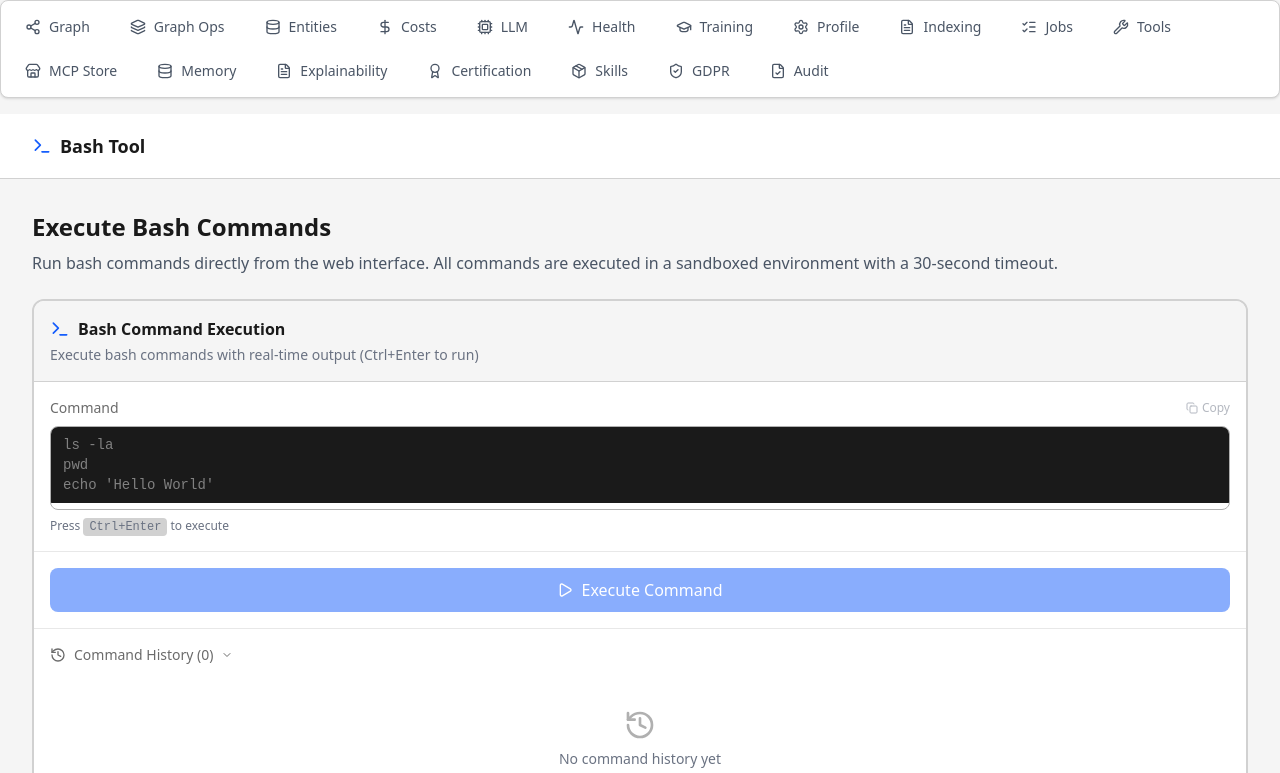
Test case: BashToolPage › should handle errors gracefully
Type "test" into the text box with test id "bash-command-input".
click(640, 465); type("test")  # box x1=51 y1=427 x2=1229 y2=503
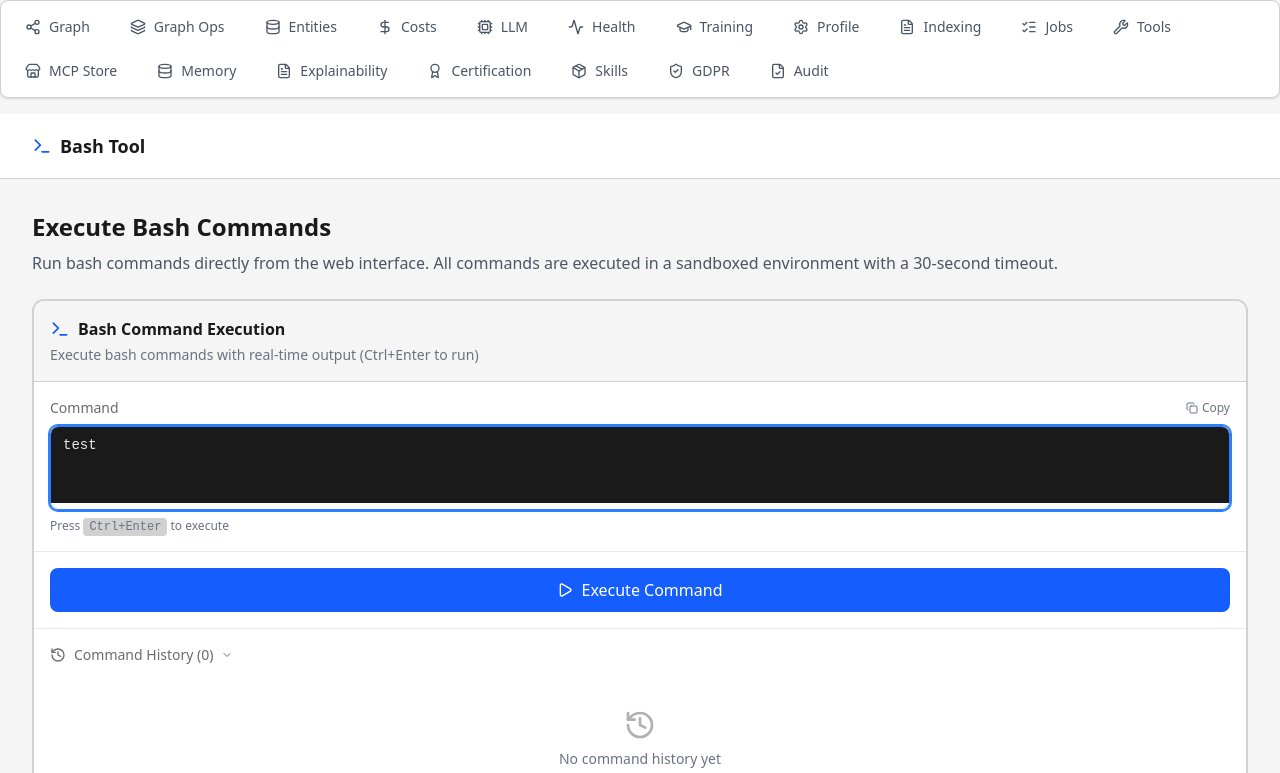
Click the button with test id "execute-bash-button".
click(640, 590)  # box x1=50 y1=568 x2=1230 y2=612
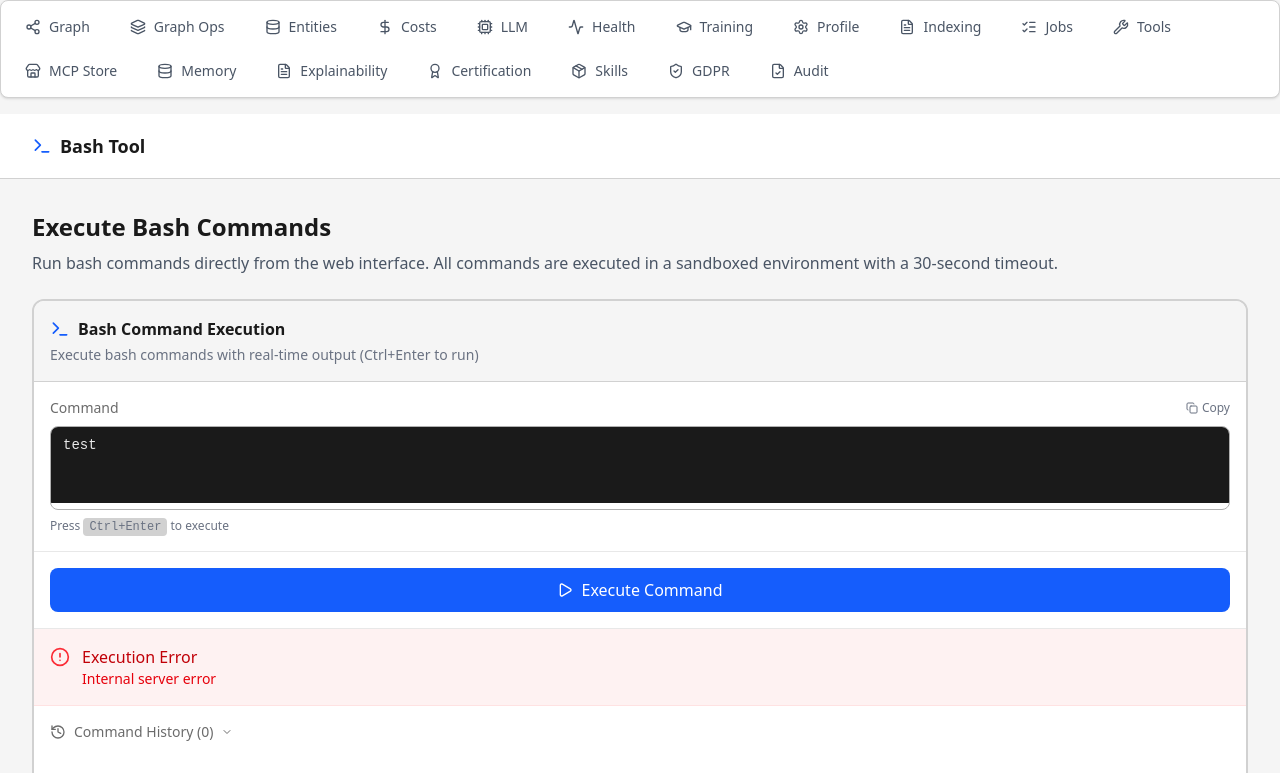
Now the element with test id "bash-execution-error" is shown, box x1=34 y1=629 x2=1246 y2=706
